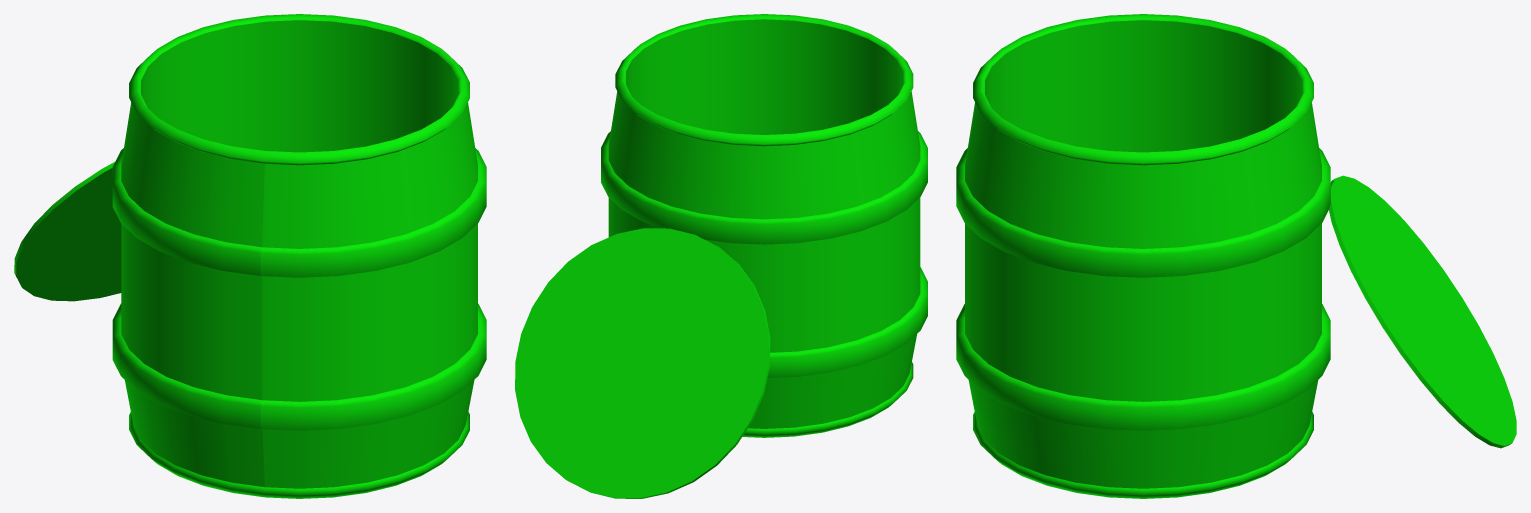
Rendered from Tonneau_02.fbx.
3 renders of one model, left to right at view 1: azimuth 30°, elevation 25°; view 2: azimuth 150°, elevation 25°; view 3: azimuth 270°, elevation 25°, orthographic. The views are drawn at different scales.
Visible parts, largest first — view 1: Tonneau_02; view 2: Tonneau_02; view 3: Tonneau_02.
Boxes of the visible parts, <box> form: Tonneau_02: <box>14,14,486,498</box>; Tonneau_02: <box>515,14,927,498</box>; Tonneau_02: <box>956,14,1516,498</box>.
Size of the model in its own units: 0.9956 by 1.01 by 1.48.
